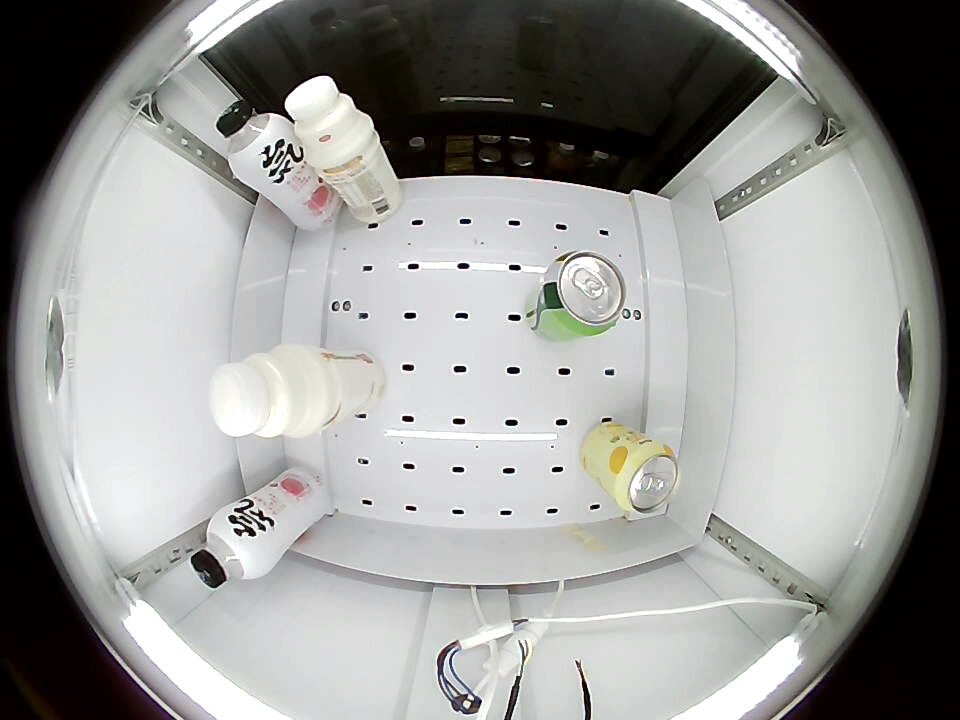mangguoxiaolao: (614, 441, 681, 517)
quchenshixiangcao: (541, 250, 628, 336)
yingyangkuaixian: (210, 344, 328, 439), (284, 76, 380, 167)
yuanqishui: (190, 509, 272, 589), (215, 99, 292, 179)
